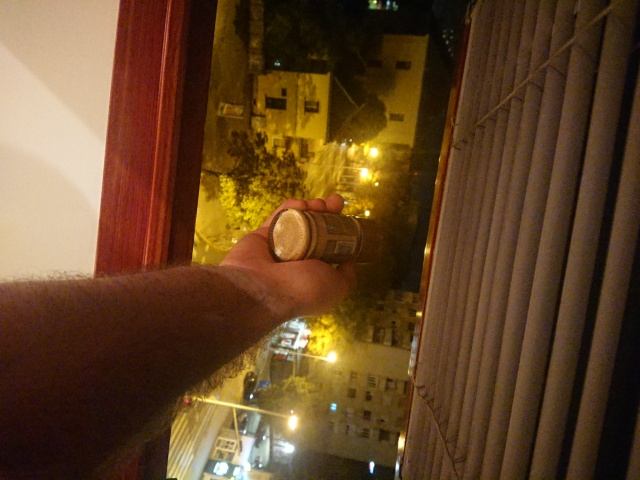Kotanyi Garlic Granules 70g: (264, 206, 390, 265)
